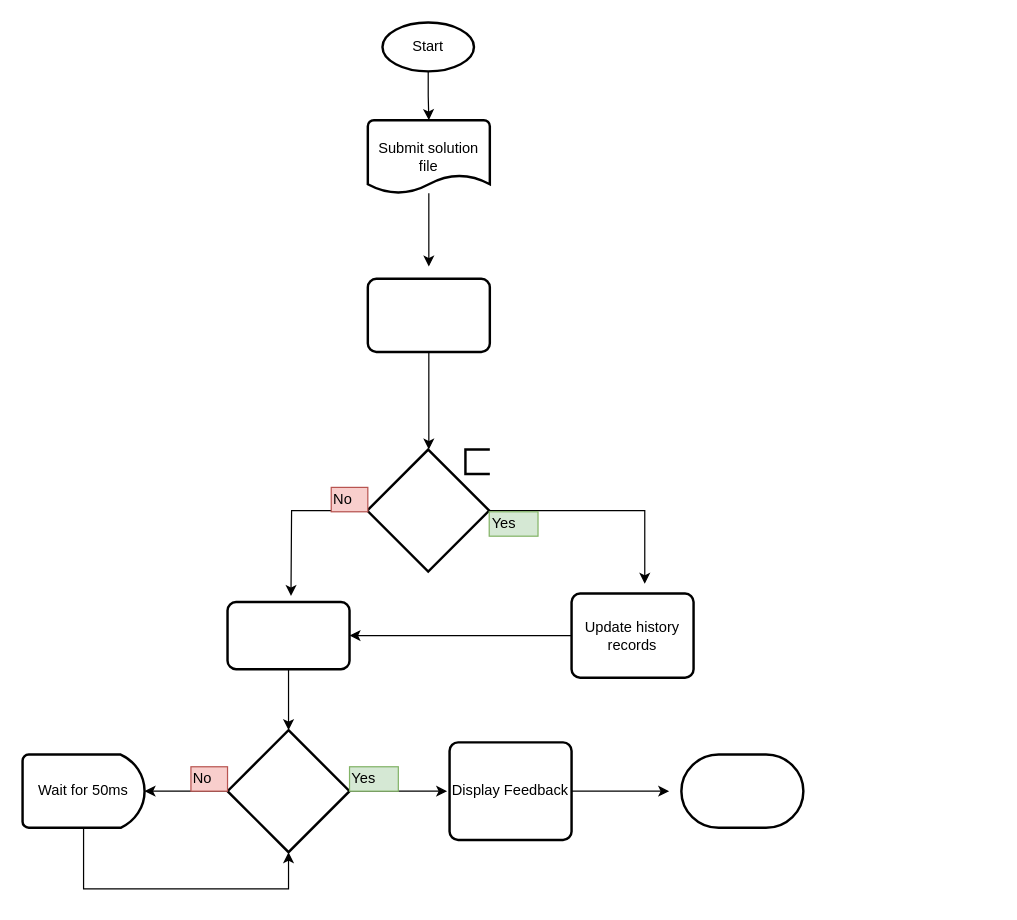
Some shapes in this 1017 by 920 pixel diagram are drawn without their labels. The shapes that lost their labels are listed below. From the top down, each one's centre as x and y in pixels, then its label:
At [428,315]: "Create new submission Record".
At [477,461]: "Does submission for the same assignment and question exist for current student?".
At [288,635]: "Submit Grading Request".
At [288,790]: "is graded?".
At [742,790]: "End".
